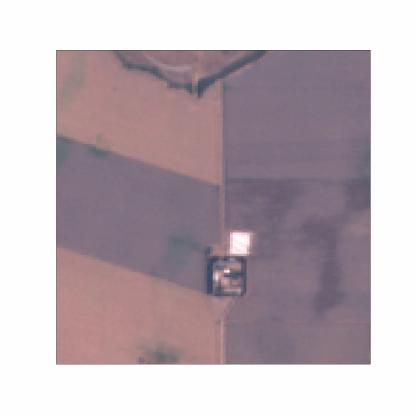silobolsa: (230, 230, 254, 258)
